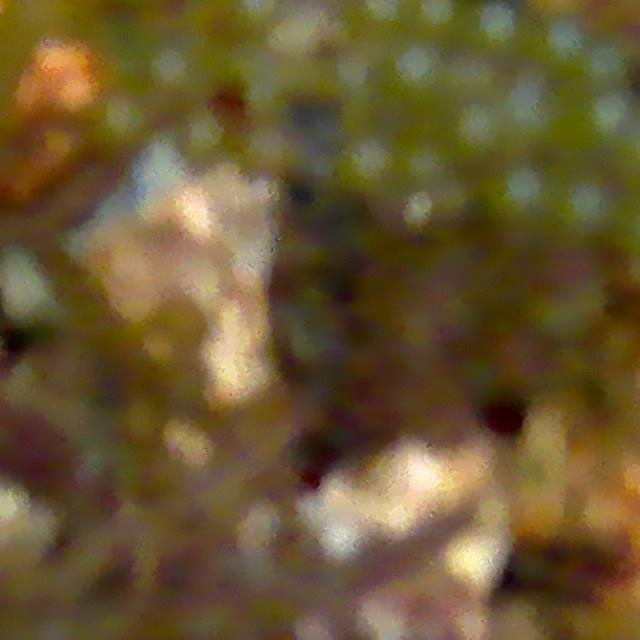SeaGrape: (490, 72, 572, 157), (485, 158, 563, 234), (550, 170, 623, 246), (385, 37, 452, 109), (448, 99, 511, 165), (575, 89, 637, 152), (465, 0, 528, 61), (538, 17, 588, 72)
